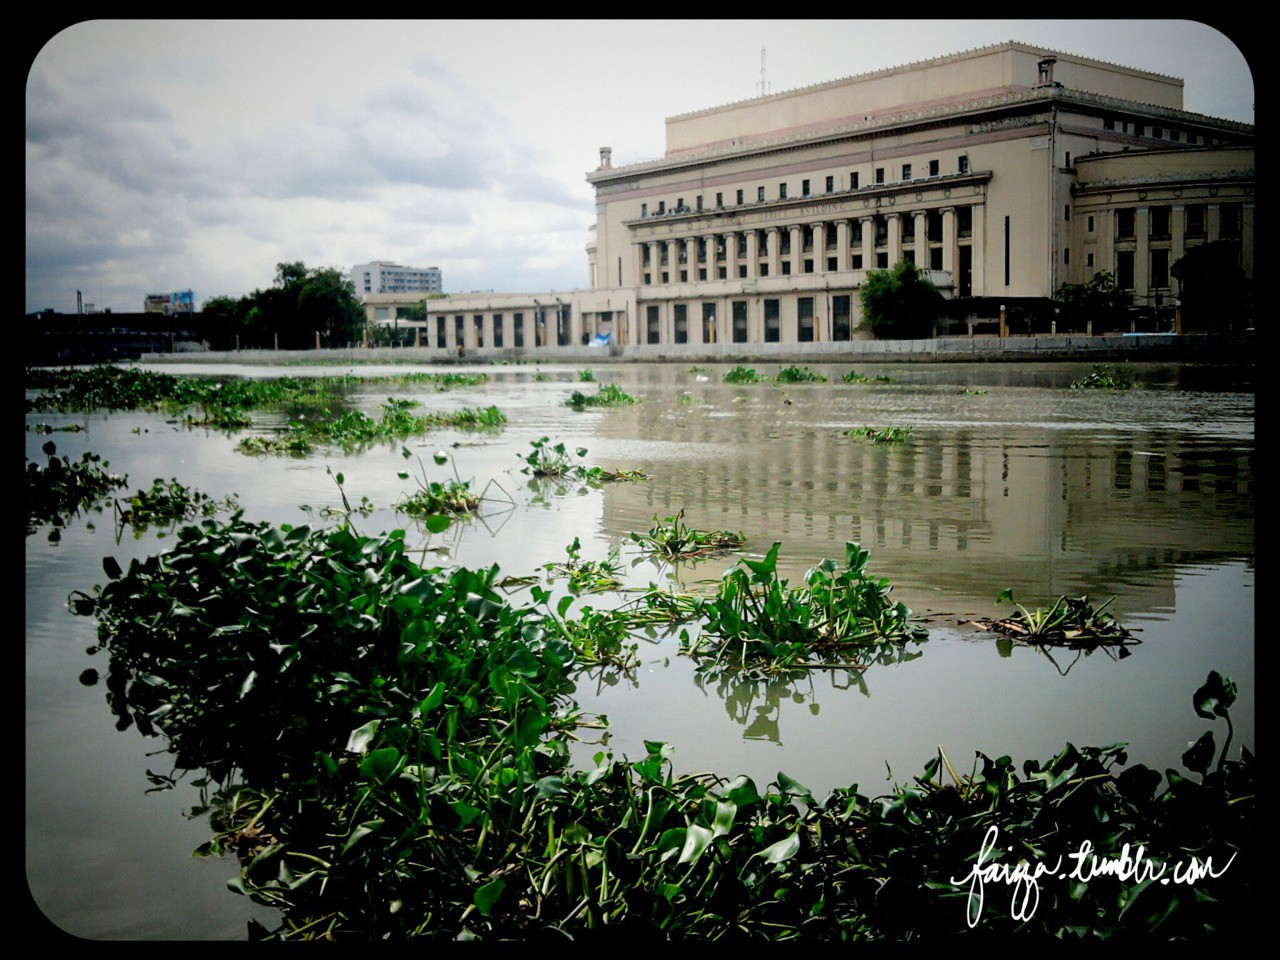water_hyacinth: (700, 541, 1147, 690)
